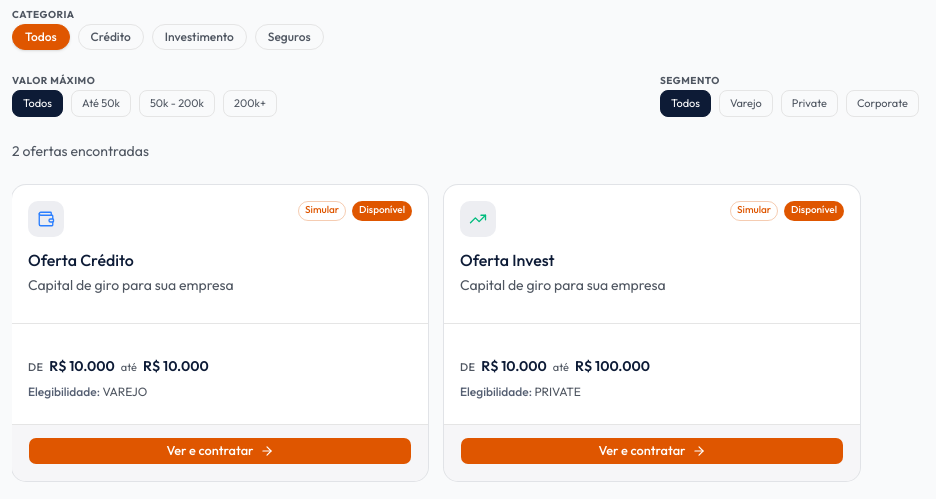
Scenario: OfferList › Rendering and filters › filters by category
Note: Clicks the Credit filter
Click the button "Crédito" at (111, 37), box [78,24,144,50]
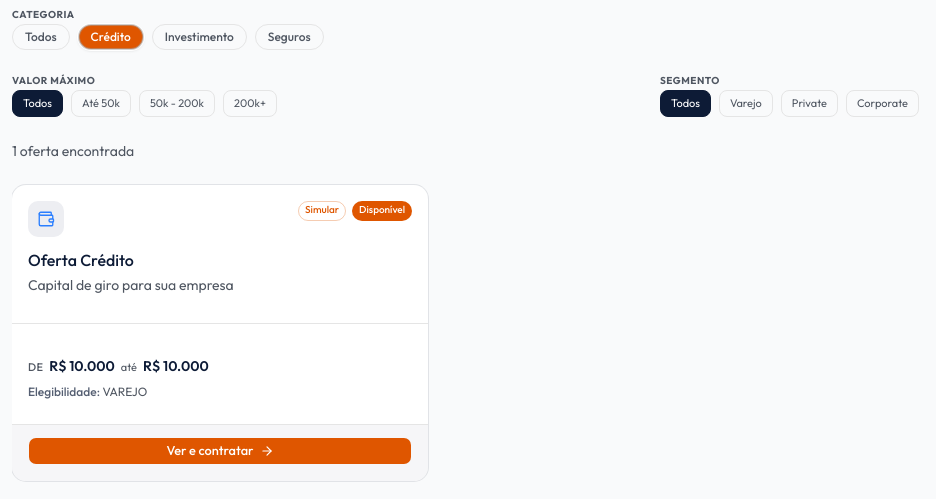
Expected: the text "Oferta Crédito" is shown, [28,250,134,270]
Expected: the text "Oferta Invest" is gone
